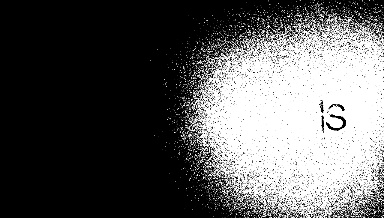S: (318, 100, 351, 133)
